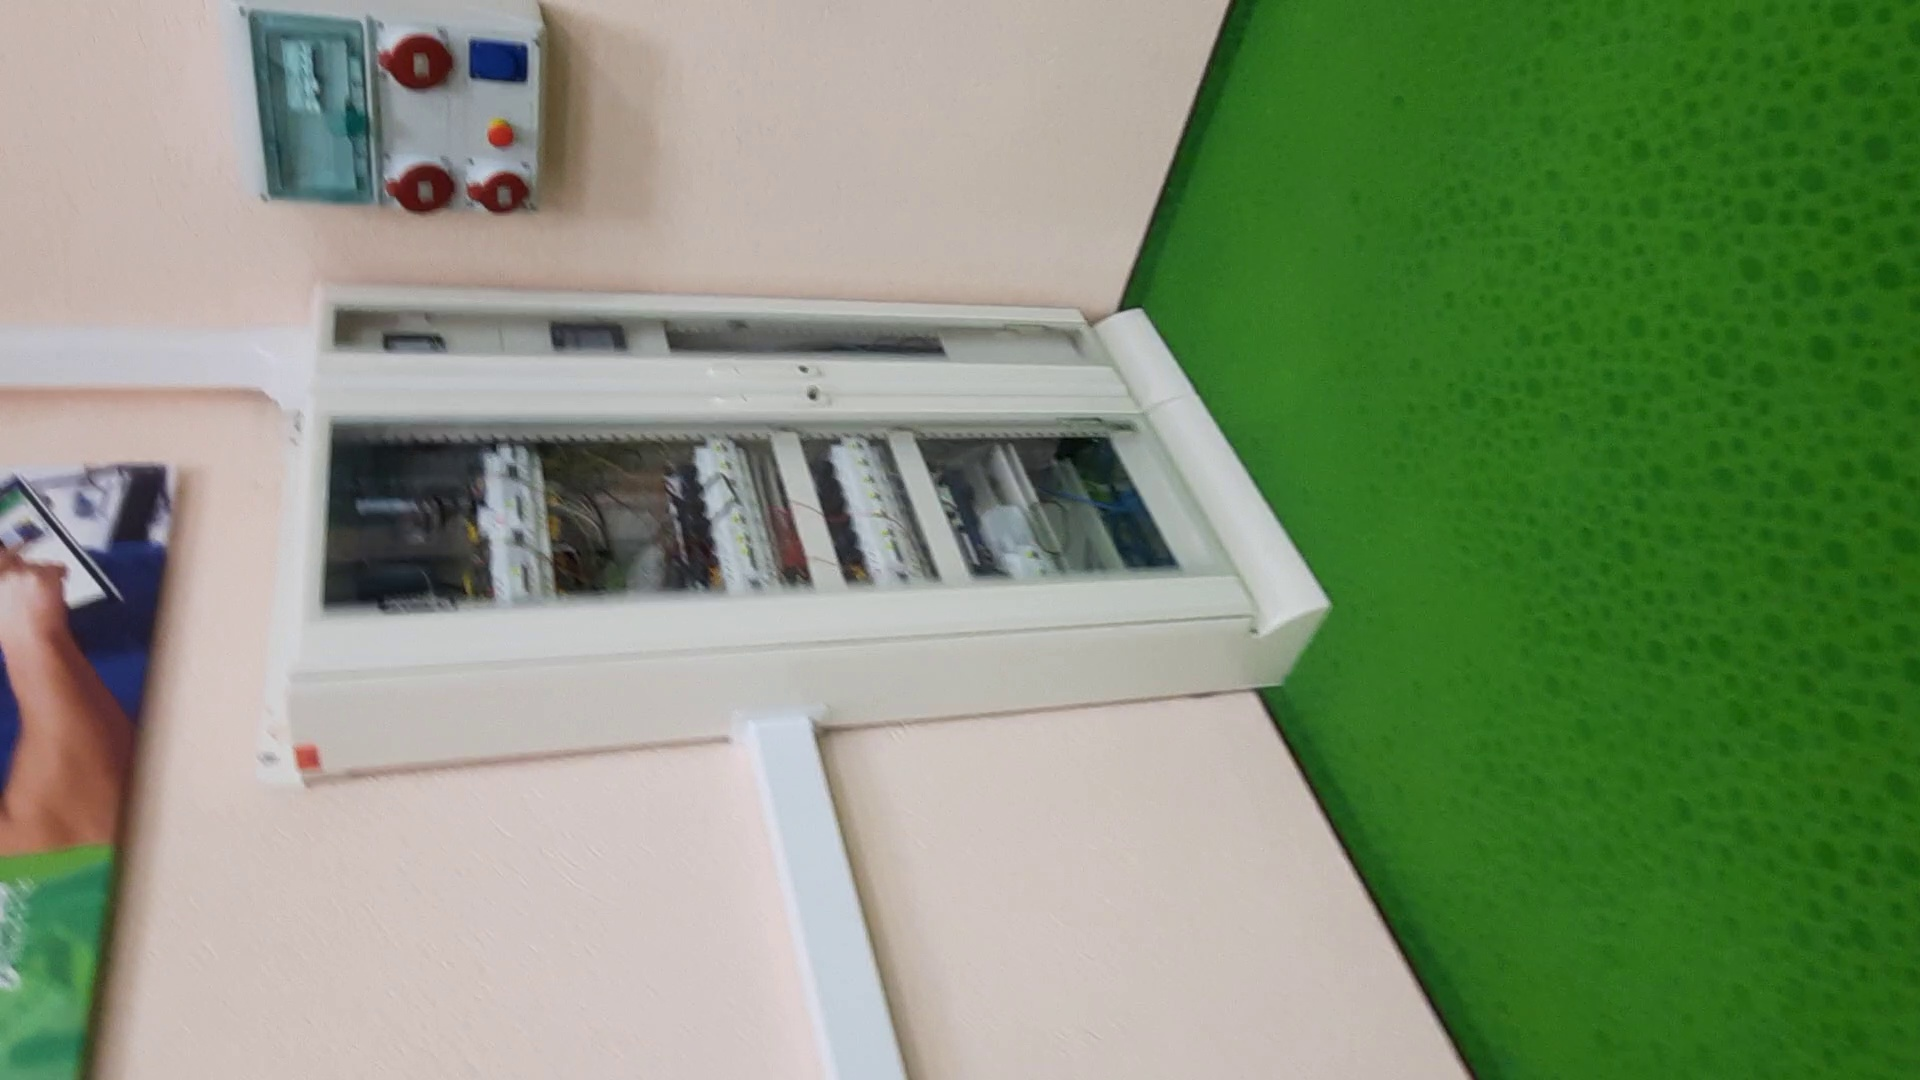stand1: (272, 251, 1337, 796)
